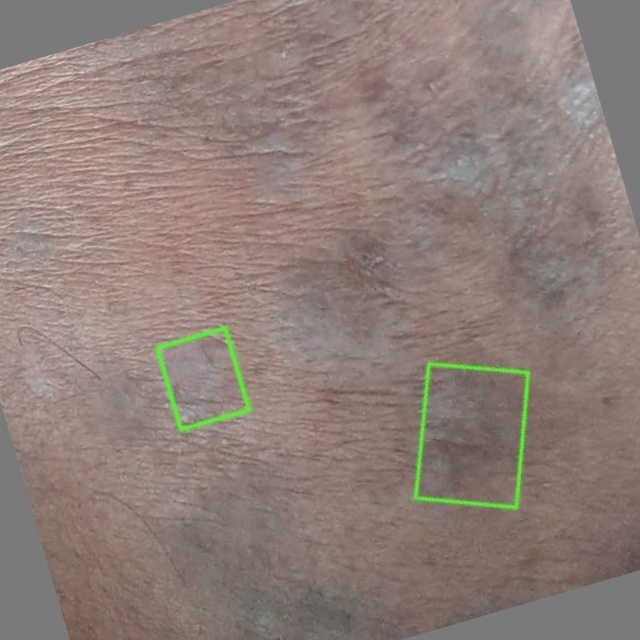Contact Dermatitis: (415, 363, 527, 506), (157, 328, 249, 429)
